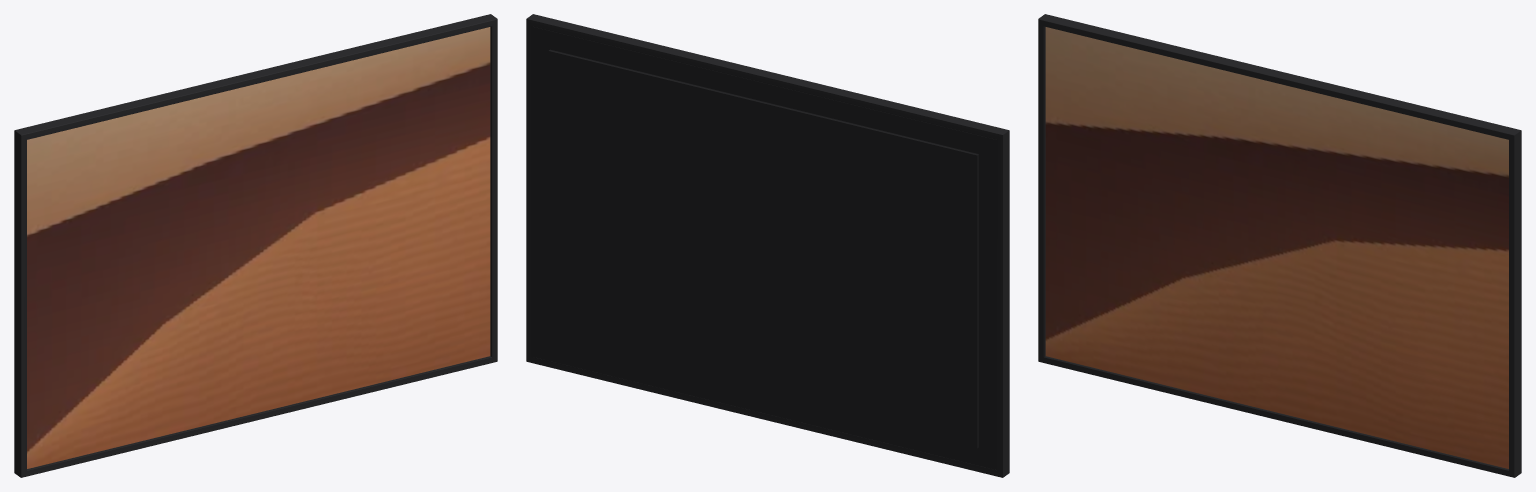
Rendered from art_dune.gltf.
The picture shows the model from 3 angles, left to right: view 1: azimuth 30°, elevation 25°; view 2: azimuth 150°, elevation 25°; view 3: azimuth 330°, elevation 25°; orthographic projection.
Parts seen in each view (by area): view 1: Art_Dune_Art, Art_Dune_Frame; view 2: Art_Dune_Spacer, Art_Dune_Backing, Art_Dune_Frame; view 3: Art_Dune_Art, Art_Dune_Frame.
Boxes of the visible parts, box(x1,y1,x2,y2) form: Art_Dune_Art: box(27, 27, 490, 468); Art_Dune_Frame: box(14, 14, 497, 477); Art_Dune_Spacer: box(548, 49, 978, 448); Art_Dune_Backing: box(532, 26, 996, 469); Art_Dune_Frame: box(526, 14, 1009, 477); Art_Dune_Art: box(1045, 27, 1508, 468); Art_Dune_Frame: box(1038, 14, 1521, 477).
Bounding box in the file's own units: 1.6 × 1.1 × 0.05.
3 materials, 1 textured.
